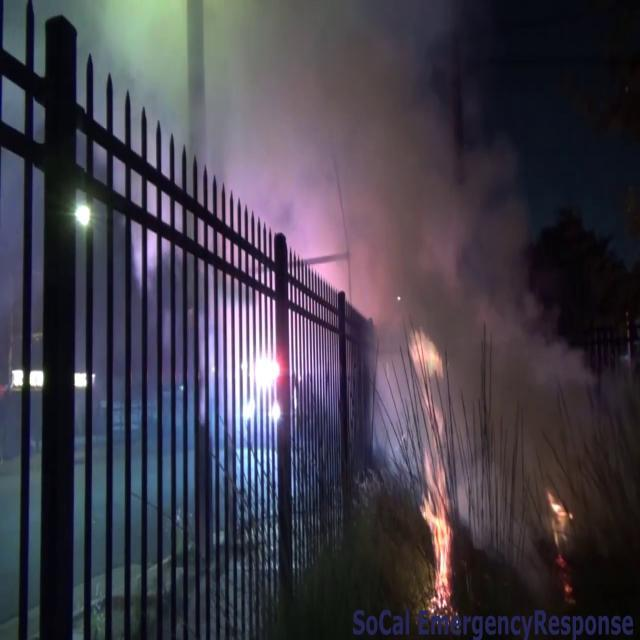Fire: (406, 326, 461, 614), (543, 492, 580, 553)
Smoke: (236, 1, 550, 480)
